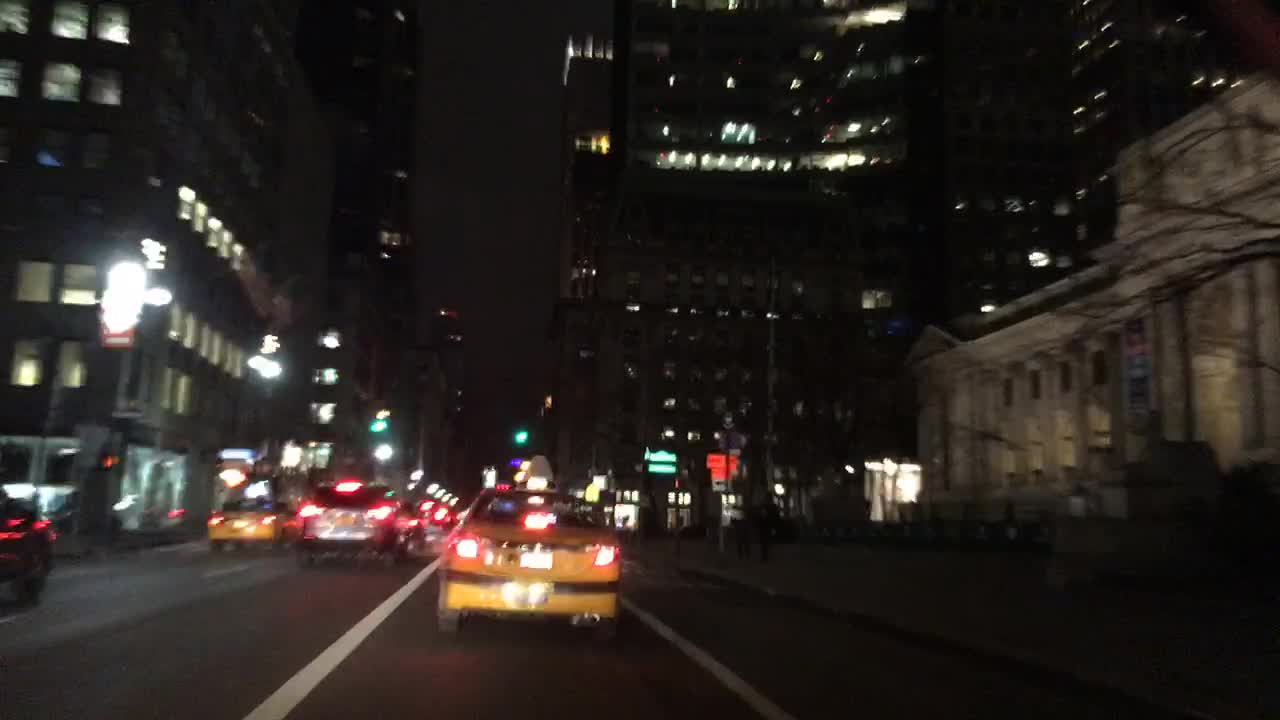car: (434, 455, 633, 643), (296, 480, 410, 569), (0, 481, 56, 617), (207, 493, 305, 556), (401, 497, 461, 560)
person: (755, 488, 777, 560), (731, 496, 752, 560)
traffic light: (96, 451, 119, 470), (365, 418, 388, 432), (512, 429, 529, 444)
traffic sign: (705, 453, 737, 466), (642, 450, 675, 460), (711, 468, 737, 480), (648, 465, 674, 474), (710, 480, 731, 491)
